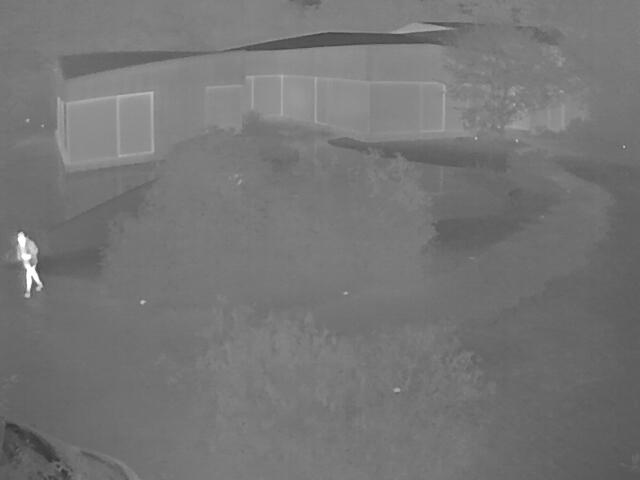person: (15, 230, 41, 299)
